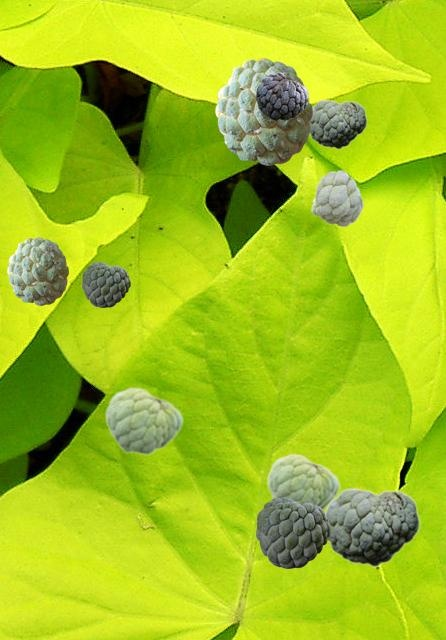atis: (215, 58, 311, 164), (324, 487, 419, 566), (104, 386, 182, 455), (256, 497, 329, 567), (7, 237, 67, 304), (266, 454, 339, 509), (267, 453, 336, 507), (311, 170, 362, 225), (310, 99, 366, 148), (256, 72, 307, 119), (82, 262, 129, 306)
